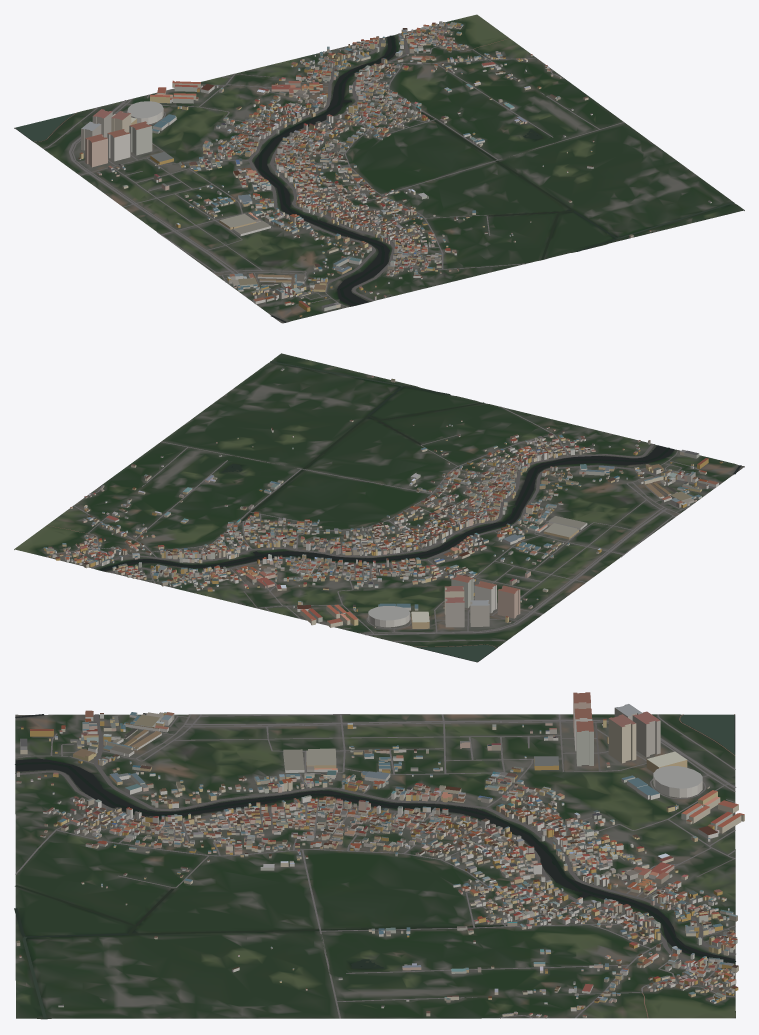
The picture shows the model from 3 angles, top to bottom: view 1: azimuth 30°, elevation 25°; view 2: azimuth 150°, elevation 25°; view 3: azimuth 270°, elevation 25°; orthographic projection. The views are drawn at different scales.
Visible parts, largest first — view 1: ground, buildings, roads, water; view 2: ground, buildings, roads, water; view 3: ground, buildings, roads, water.
Boxes of the visible parts, x1,y1,x2,y2 form: ground: [14, 14, 744, 323]; buildings: [77, 21, 711, 316]; roads: [14, 22, 624, 307]; water: [15, 35, 734, 322]; ground: [14, 353, 744, 662]; buildings: [43, 368, 722, 628]; roads: [46, 406, 714, 662]; water: [98, 361, 741, 661]; ground: [15, 714, 735, 1019]; buildings: [16, 692, 744, 1018]; roads: [15, 714, 736, 1018]; water: [14, 714, 735, 1018].
Bounding box in the file's own units: 1405 × 82.21 × 1423.
